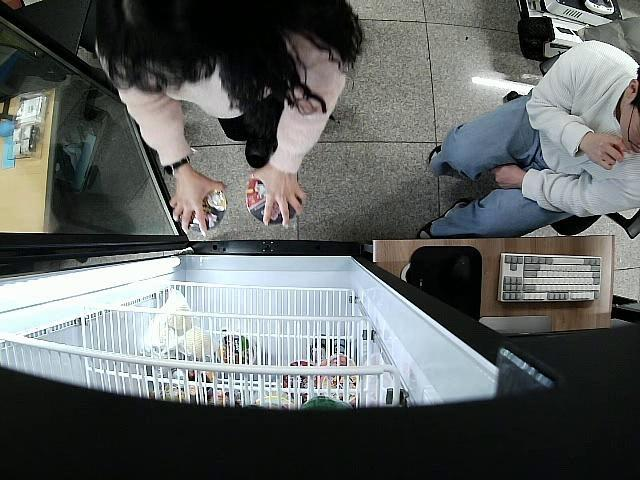07_buldak_L: (244, 176, 304, 222), (181, 184, 226, 232)
